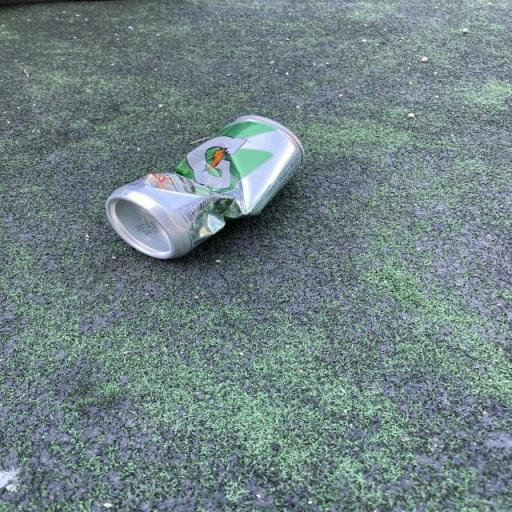metal: (91, 105, 318, 272)
